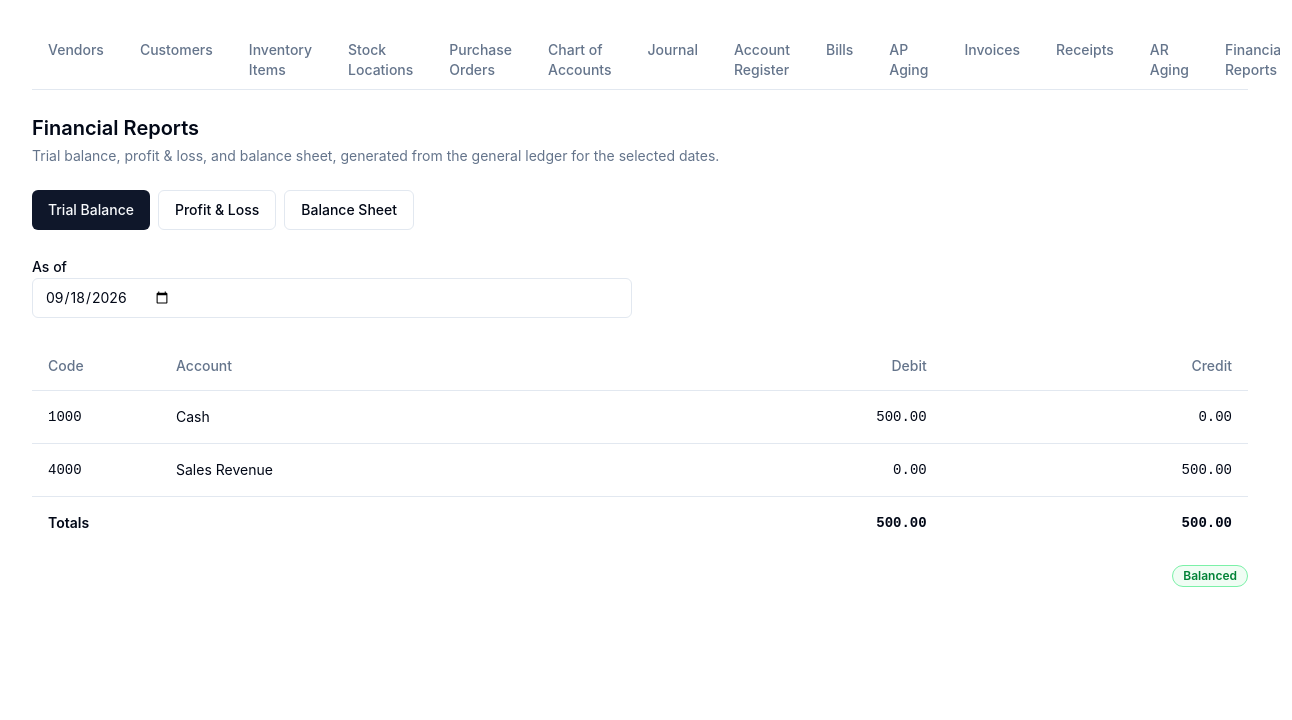
FinancialReports screen › renders the Profit & Loss tab with revenue/expense lines and net income
Expected: the text "Cash" is shown, [160,390,637,443]
Click the tab "Profit & Loss" at (217, 210), box [158,190,276,230]
(page scrolled)
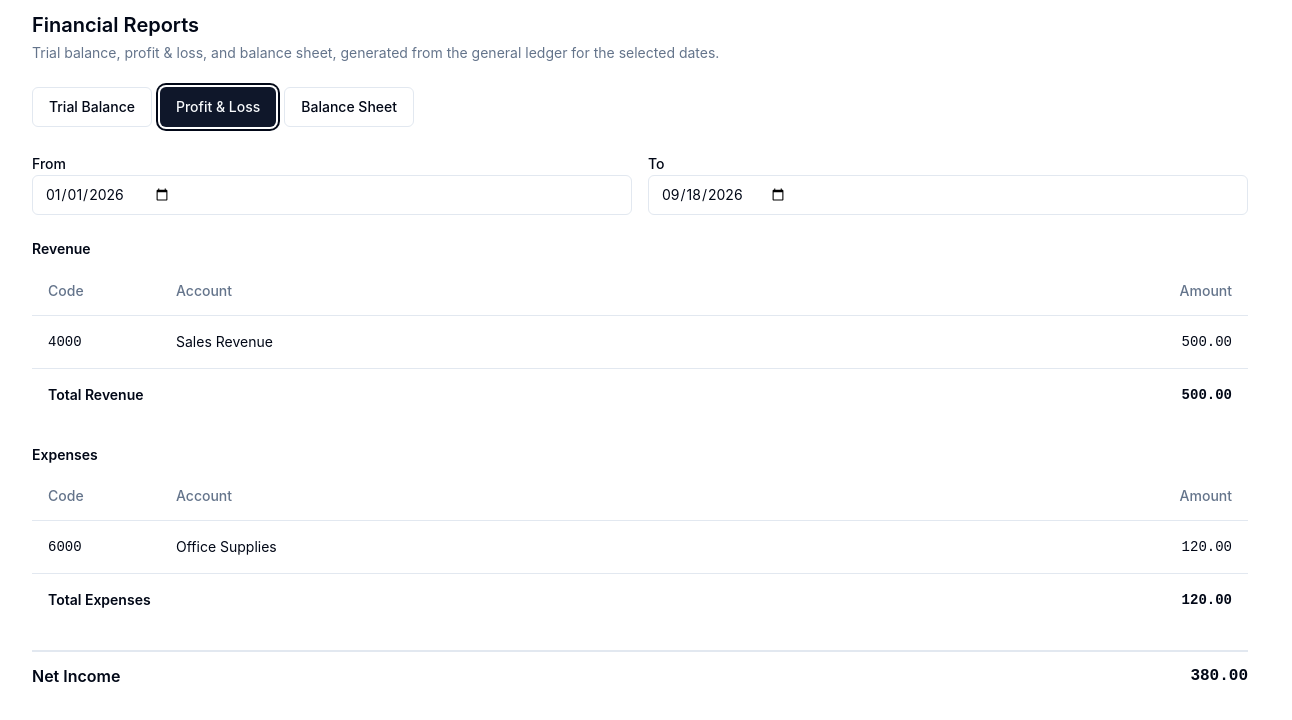
Now the heading "Revenue" is shown, box [32,240,91,257]
Now the text "Total Revenue" is shown, box [32,368,817,420]
Now the heading "Expenses" is shown, box [32,446,98,462]
